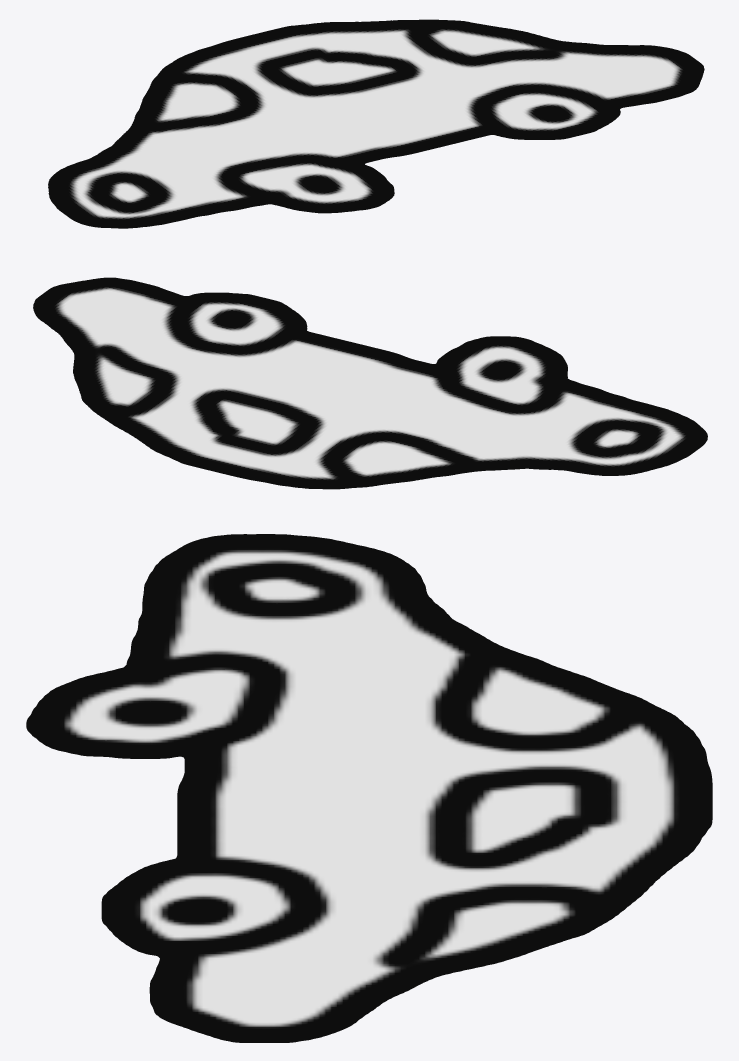
File: Car.FBX
3 views of the same model, one above another, from view 1: azimuth 30°, elevation 25°; view 2: azimuth 150°, elevation 25°; view 3: azimuth 270°, elevation 25° (orthographic). The views are drawn at different scales.
Parts seen in each view (by area): view 1: PlaneObj; view 2: PlaneObj; view 3: PlaneObj.
Part boxes in pixels (x1,y1,x2,y2): PlaneObj: [48, 19, 704, 228]; PlaneObj: [33, 277, 707, 489]; PlaneObj: [26, 534, 712, 1042].
Bounding box in the file's own units: 82.91 × 2.94e-15 × 47.94.
